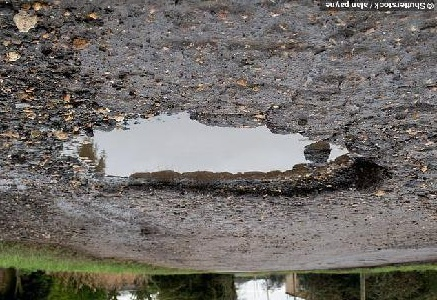pothole: (41, 106, 391, 201)
